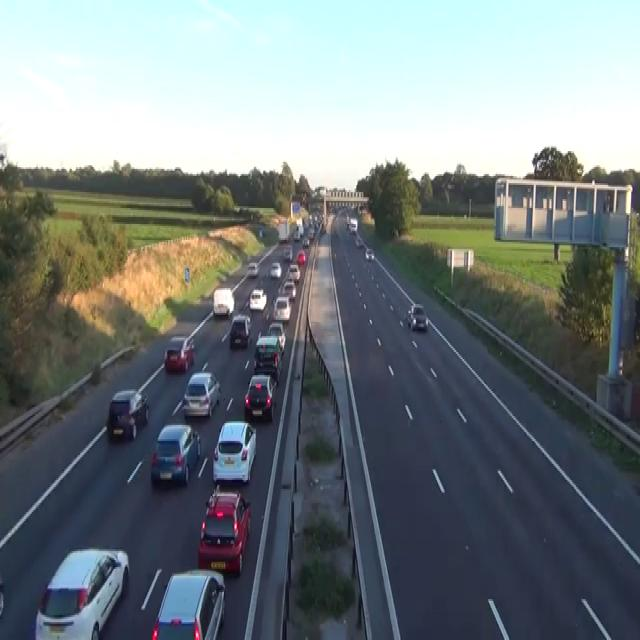Car: (35, 546, 129, 638), (151, 567, 225, 638), (197, 487, 251, 574), (150, 423, 201, 485), (212, 420, 256, 486), (107, 387, 149, 441), (182, 372, 221, 418), (243, 374, 275, 422), (253, 334, 282, 382), (163, 336, 194, 372), (229, 314, 251, 348), (212, 286, 234, 316), (407, 302, 428, 331), (267, 322, 285, 354), (272, 295, 291, 322), (278, 279, 296, 301), (249, 288, 266, 311), (287, 263, 300, 283), (247, 262, 259, 278), (0, 572, 4, 618), (265, 302, 274, 322), (270, 262, 281, 278), (296, 249, 305, 265), (348, 217, 357, 233), (278, 230, 288, 243), (283, 247, 292, 261), (365, 247, 374, 260), (355, 235, 363, 247), (338, 208, 348, 217), (307, 226, 314, 238), (293, 229, 300, 240), (302, 237, 309, 247), (320, 224, 326, 233), (259, 228, 262, 236)
